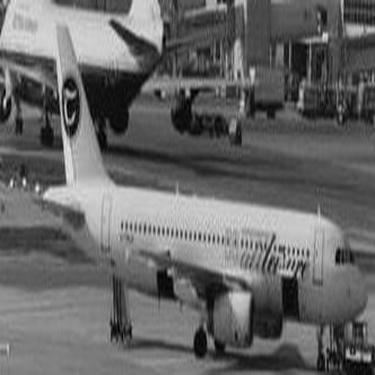airplane: (29, 17, 368, 370), (4, 5, 267, 163)
